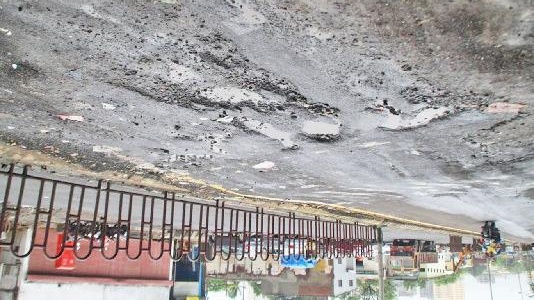pothole: (107, 65, 308, 112), (374, 103, 461, 133), (238, 118, 302, 154), (298, 117, 345, 144), (161, 152, 212, 166), (483, 101, 527, 116), (250, 159, 275, 173)
